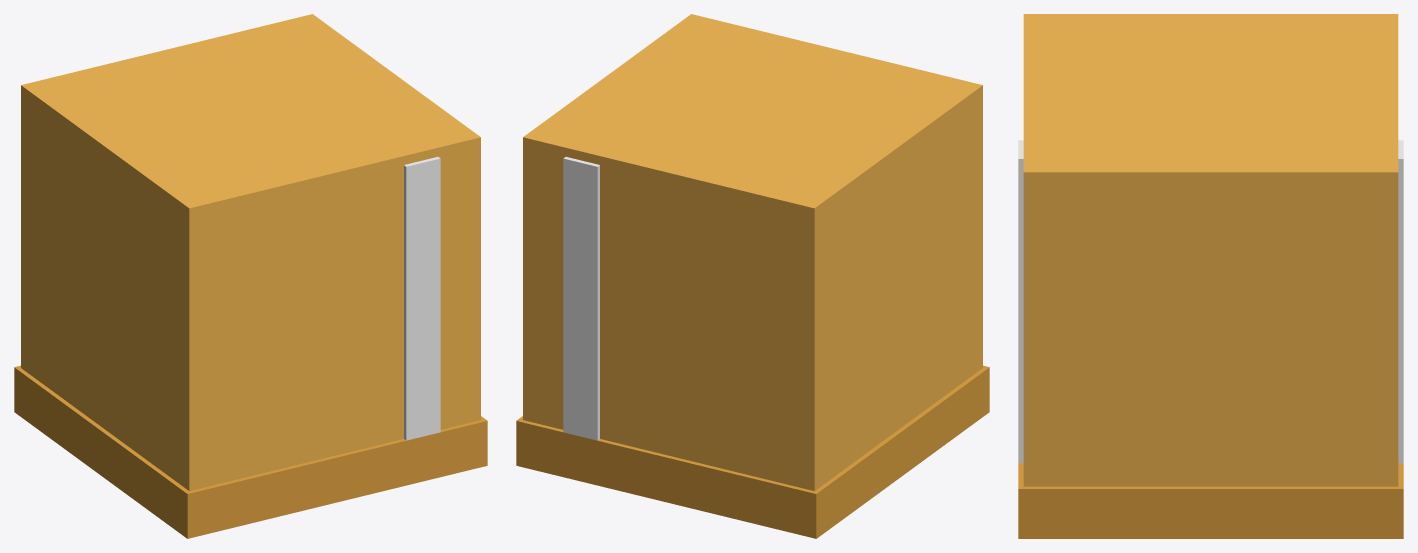
Rendered from basquete_coxa.glb.
3 renders of one model, left to right at view 1: azimuth 30°, elevation 25°; view 2: azimuth 150°, elevation 25°; view 3: azimuth 270°, elevation 25°, orthographic. The views are drawn at different scales.
Parts seen in each view (by area): view 1: basquete_coxa; view 2: basquete_coxa; view 3: basquete_coxa.
Part boxes in pixels (bbox=[...]): basquete_coxa: bbox=[14, 14, 487, 538]; basquete_coxa: bbox=[516, 14, 989, 538]; basquete_coxa: bbox=[1018, 14, 1403, 538].
Bounding box in the file's own units: 0.35 × 0.365 × 0.35.
